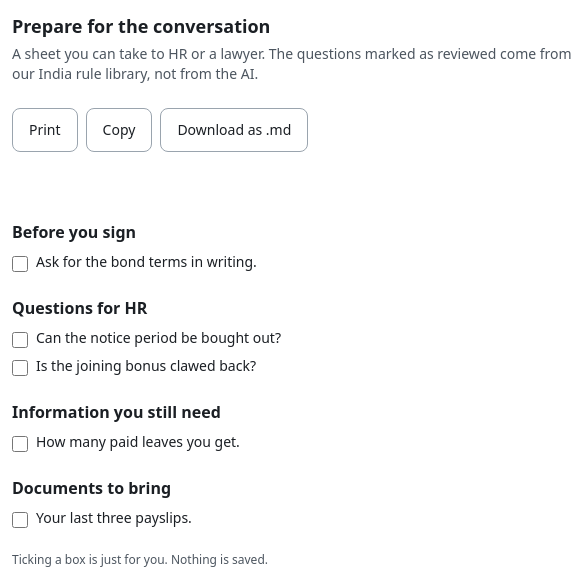
Test case: PrepareSheet › Copy › writes the Markdown sheet to the clipboard and announces that it did
The image size is (588, 584).
Expected: the text "Copied to your clipboard." is not shown
Click the button "Copy" at {"x": 119, "y": 130}, box [86,108,152,152]
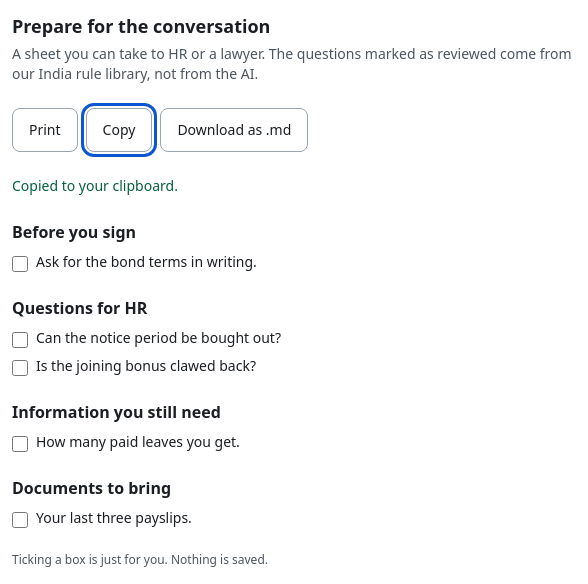
Expected: the text "Copied to your clipboard." is shown, [12,176,178,195]
